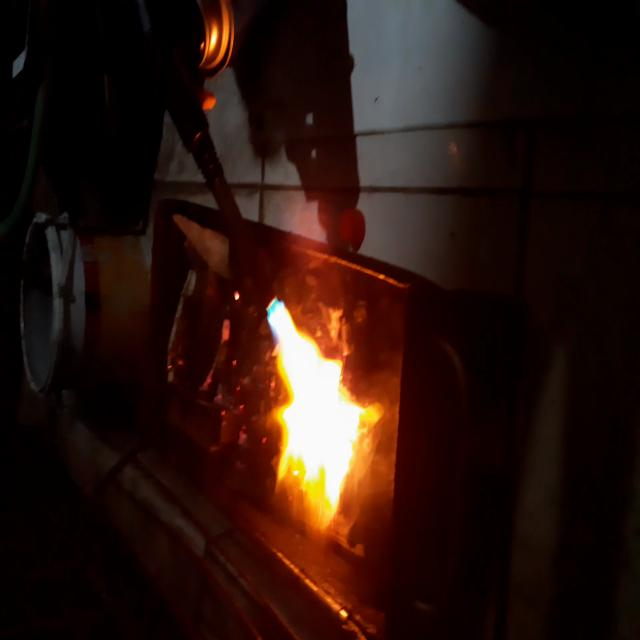Fire: (252, 275, 388, 541)
